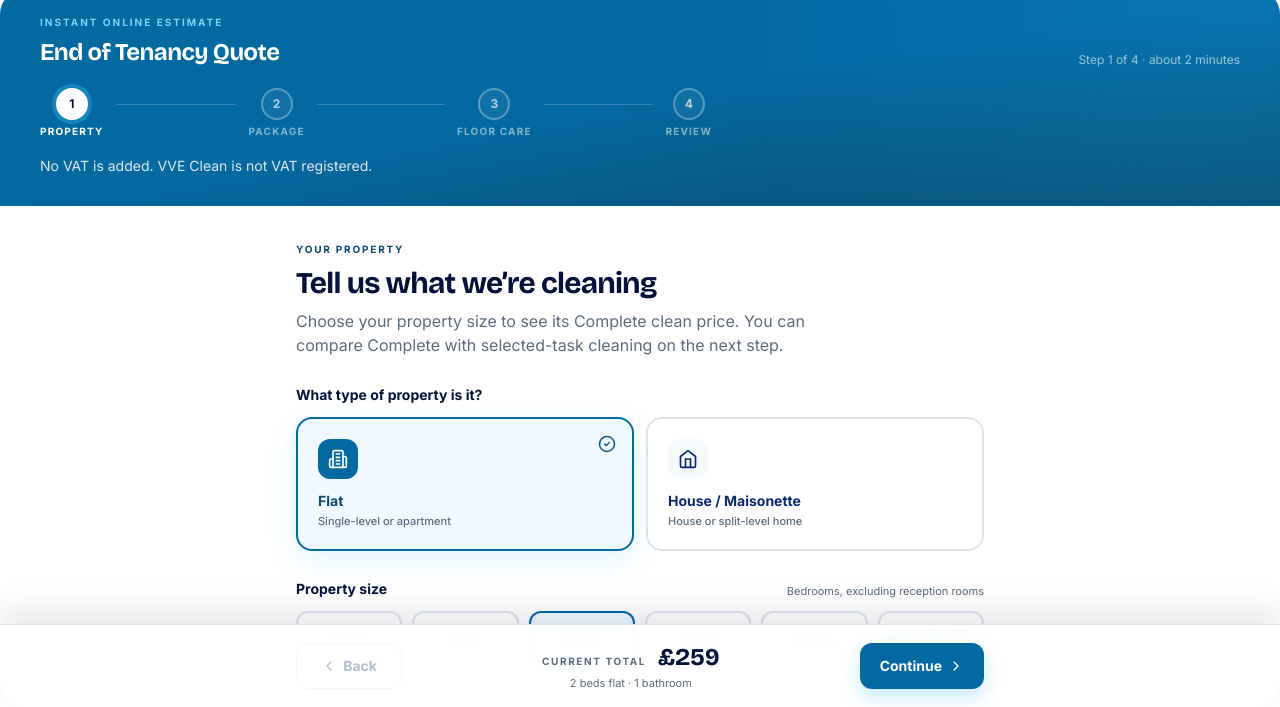
Test case: EotQuoteWizard — Step 3: Floor care (standard choices first) › shows Standard and hard floors first, with Professional carpet steam cleaning underneath
Step 1. Click the button "Continue" → (922,666), box [860,643,984,689]
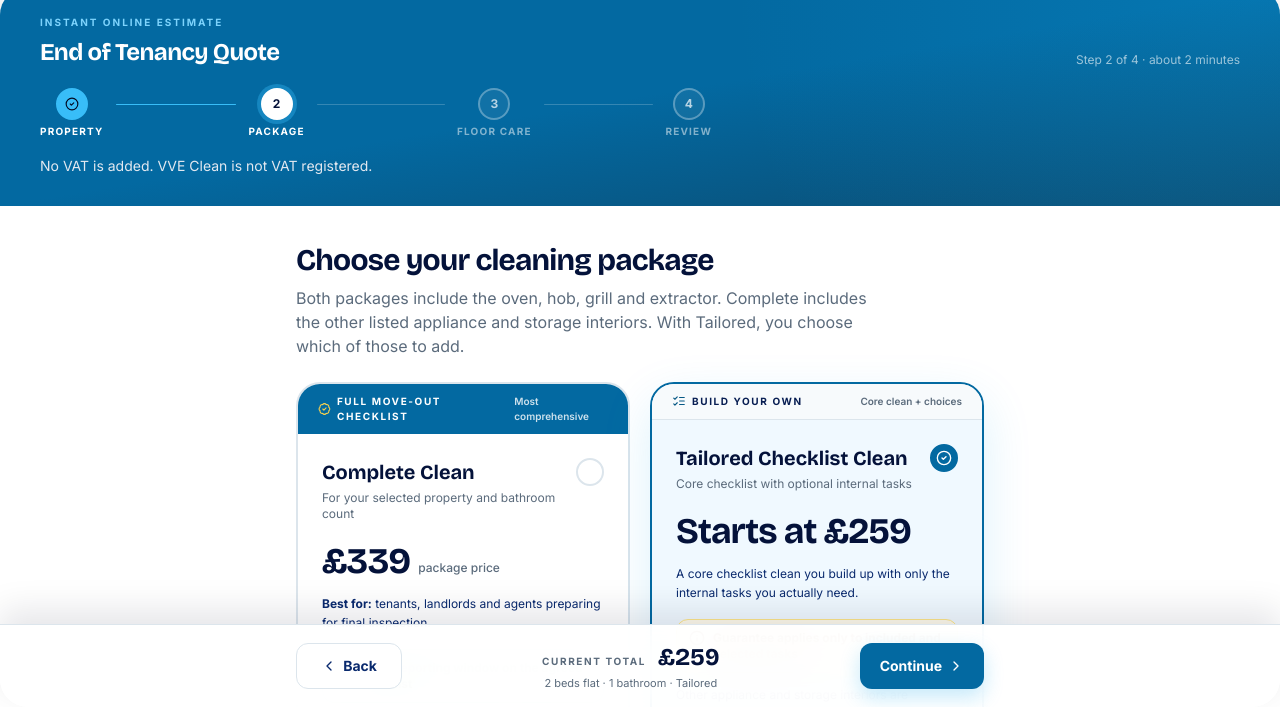
Step 2. Click the button "Continue" → (922,666), box [860,643,984,689]
(page scrolled)
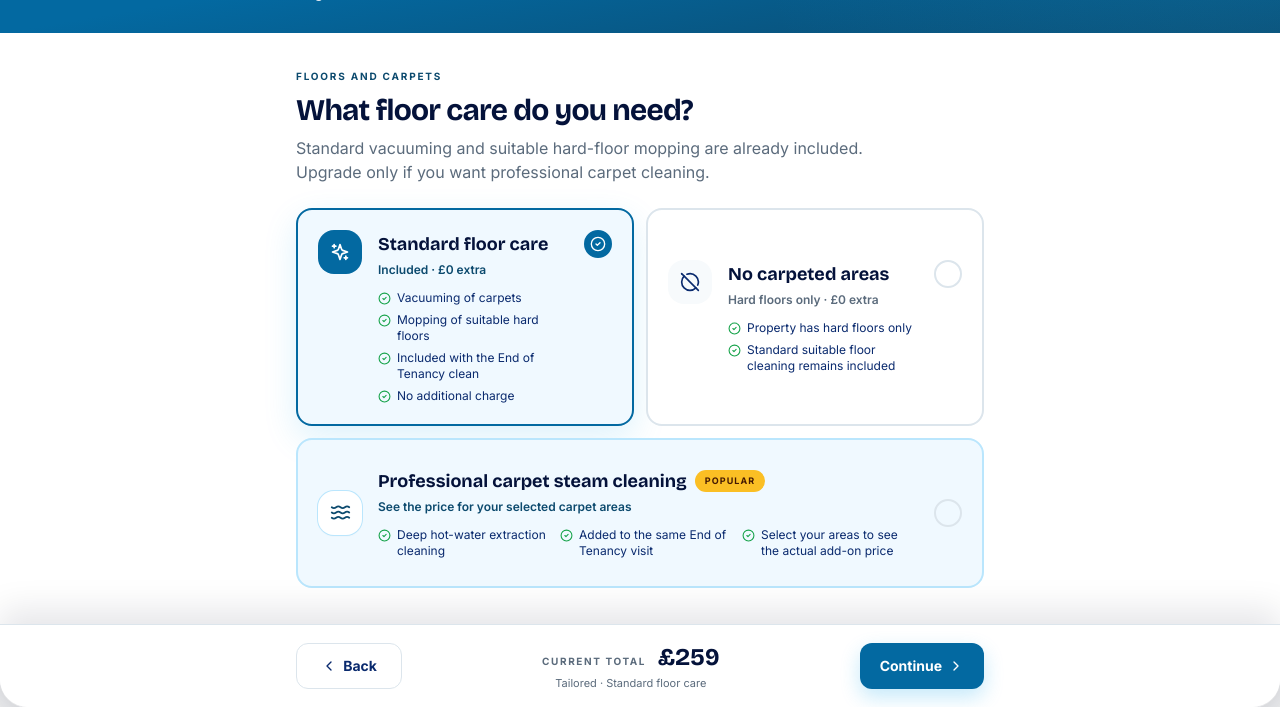
Expected: the button that starts with "Standard floor care" is shown, [296,208,634,426]
Expected: the button that starts with "No carpeted areas" is shown, [646,208,984,426]
Expected: the button that starts with "Professional carpet steam cleaning" is shown, [296,438,984,588]
